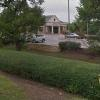Tree: (4, 0, 55, 58)
